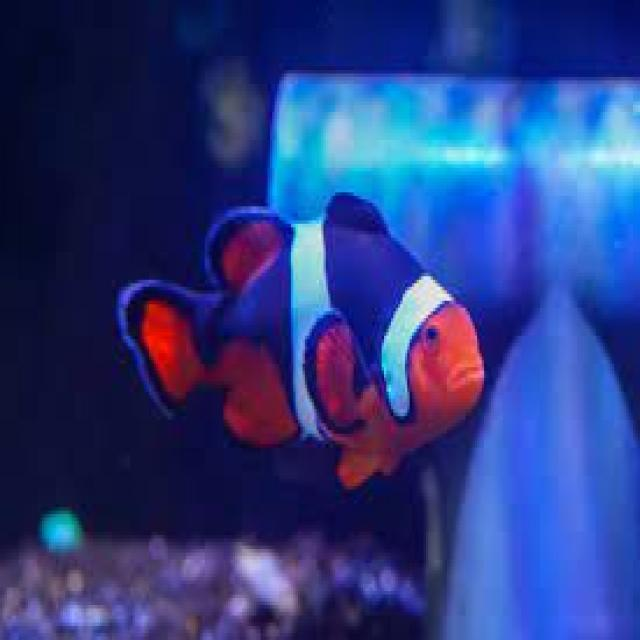ClownFish: (119, 192, 486, 486)
